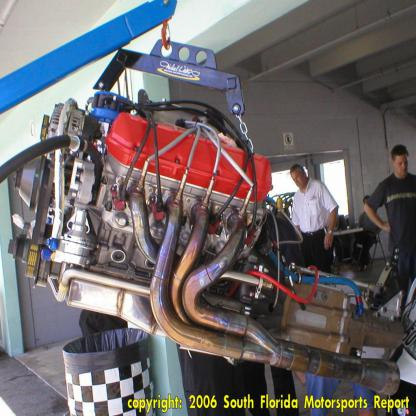face: (395, 155, 409, 178), (293, 171, 305, 189), (365, 200, 370, 208)
